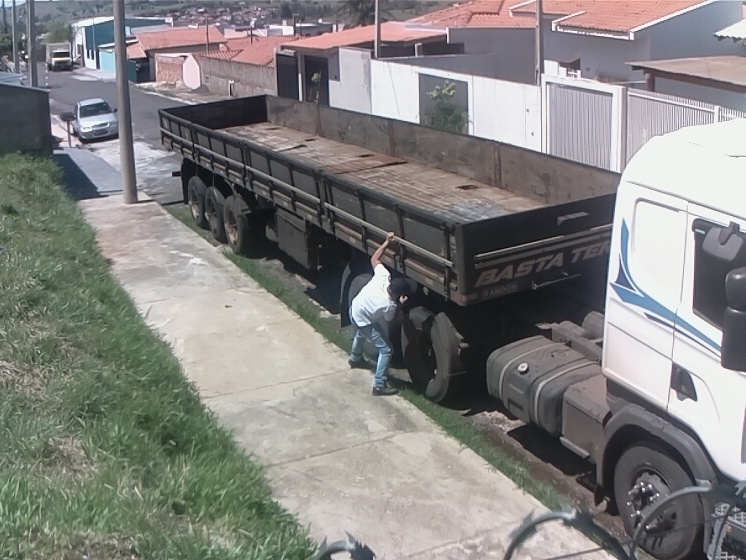person: (346, 231, 407, 396)
